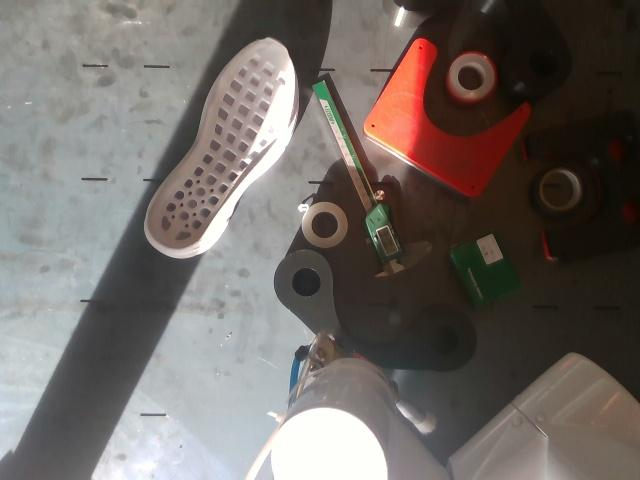shoes: (147, 39, 293, 249)
